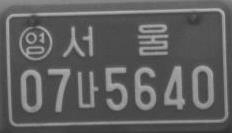0: (190, 64, 215, 110), (19, 68, 43, 113)
4: (163, 64, 186, 110)
5: (103, 65, 128, 111)
6: (133, 66, 157, 111)
7: (46, 67, 71, 113)
나: (76, 70, 99, 109)
서울_D: (62, 23, 170, 58)
영: (18, 24, 52, 61)
